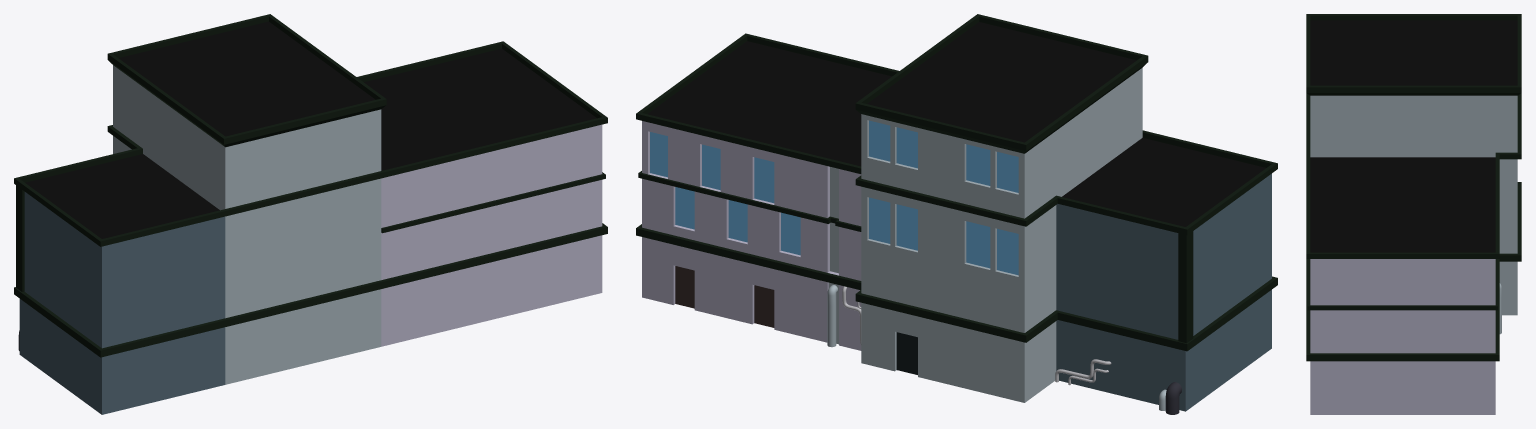
Rendered from BuildingVer12.fbx.
The picture shows the model from 3 angles, left to right: view 1: azimuth 30°, elevation 25°; view 2: azimuth 150°, elevation 25°; view 3: azimuth 270°, elevation 25°; orthographic projection. The views are drawn at different scales.
Parts seen in each view (by area): view 1: Box005; view 2: Box005; view 3: Box005.
Boxes of the visible parts, bbox=[...] form: Box005: bbox=[14, 14, 607, 414]; Box005: bbox=[636, 14, 1277, 414]; Box005: bbox=[1306, 14, 1521, 414].
Bounding box in the file's own units: 3195 × 1496 × 1270.
